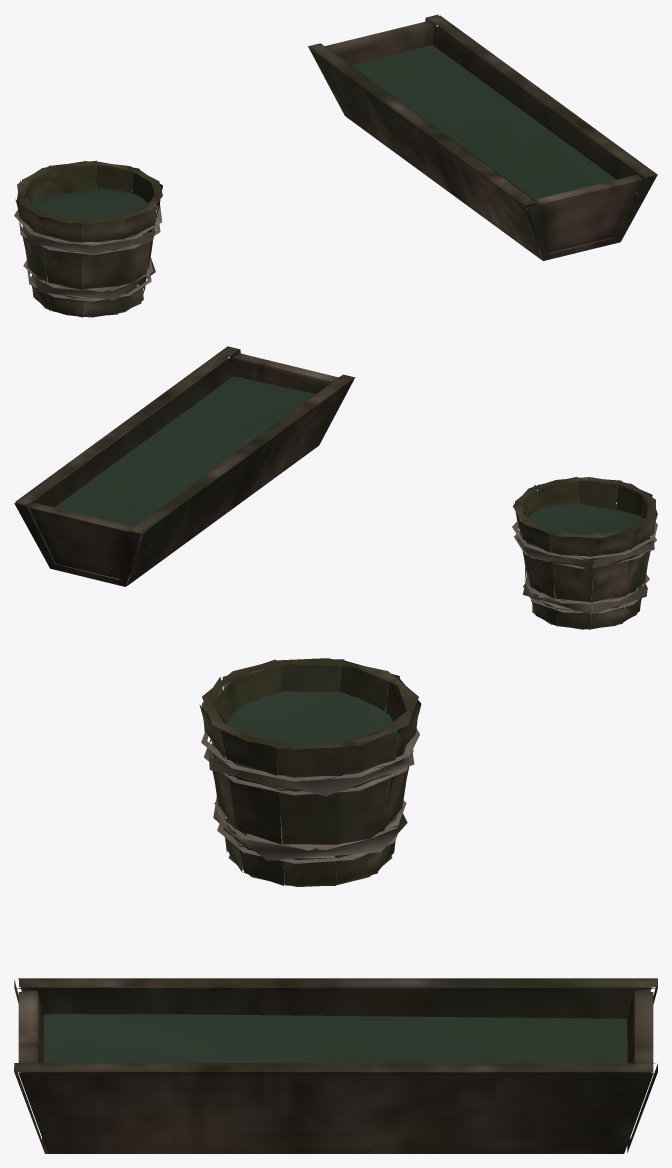
File: vc_trough.glb
3 renders of one model, top to bottom at view 1: azimuth 30°, elevation 25°; view 2: azimuth 150°, elevation 25°; view 3: azimuth 270°, elevation 25°, orthographic. The views are drawn at different scales.
Visible parts, largest first — view 1: bucket_anvil_and_water1_0; view 2: bucket_anvil_and_water1_0; view 3: bucket_anvil_and_water1_0.
Boxes of the visible parts, left/top/right/bottom form: bucket_anvil_and_water1_0: left=14, top=14, right=657, bottom=317; bucket_anvil_and_water1_0: left=14, top=346, right=657, bottom=629; bucket_anvil_and_water1_0: left=14, top=658, right=657, bottom=1153.
Size of the model in its own units: 3.25 by 0.5886 by 2.31.
1 material, 1 textured.
